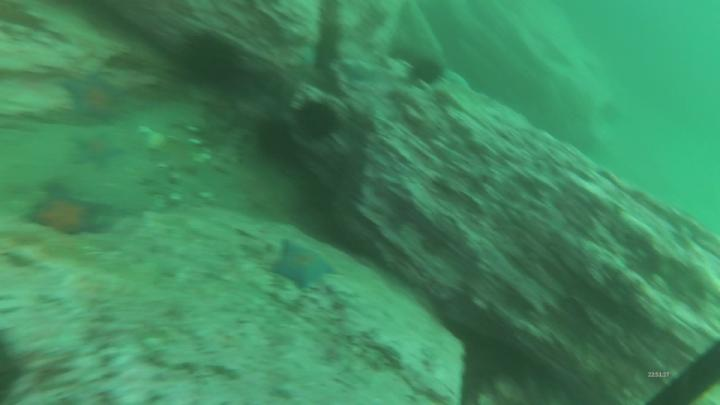echinus: (180, 31, 243, 90), (291, 95, 342, 145), (409, 57, 447, 87)
starfish: (23, 181, 107, 240), (58, 73, 132, 126), (270, 239, 340, 295), (66, 130, 126, 172)
